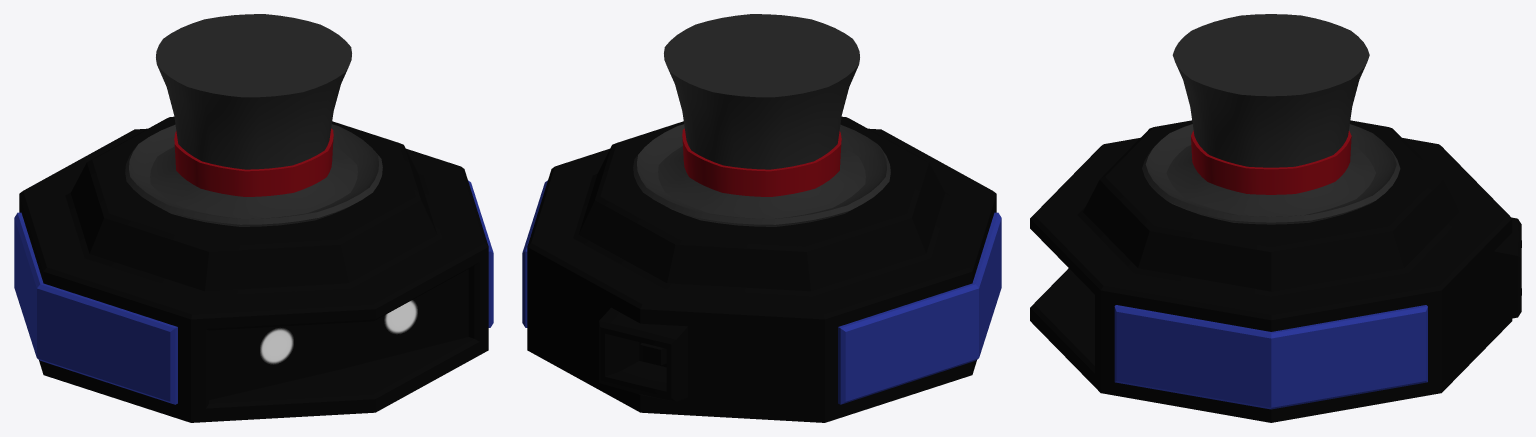
File: RoboPlayer.fbx
3 views of the same model, side by side, from view 1: azimuth 30°, elevation 25°; view 2: azimuth 150°, elevation 25°; view 3: azimuth 270°, elevation 25° (orthographic).
Visible parts, largest first — view 1: Circle, Circle.001; view 2: Circle, Circle.001; view 3: Circle, Circle.001.
Part boxes in pixels (<box>): Circle: <box>14,116,493,422</box>; Circle.001: <box>125,14,382,226</box>; Circle: <box>522,116,1001,422</box>; Circle.001: <box>633,14,890,226</box>; Circle: <box>1030,120,1521,422</box>; Circle.001: <box>1142,14,1400,224</box>.
Bounding box in the file's own units: 206 × 122 × 204.
Materials: 5 (1 with a texture image).
